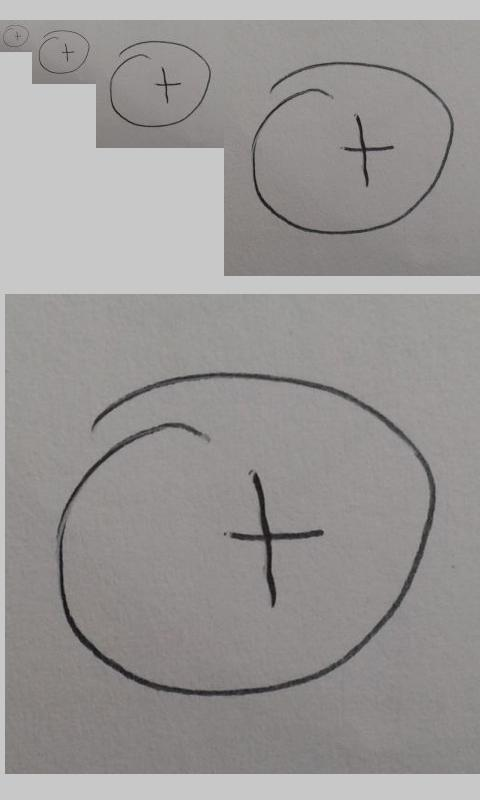button: (56, 370, 439, 700), (250, 59, 458, 236), (109, 39, 212, 128), (38, 29, 90, 75), (2, 24, 30, 48)
